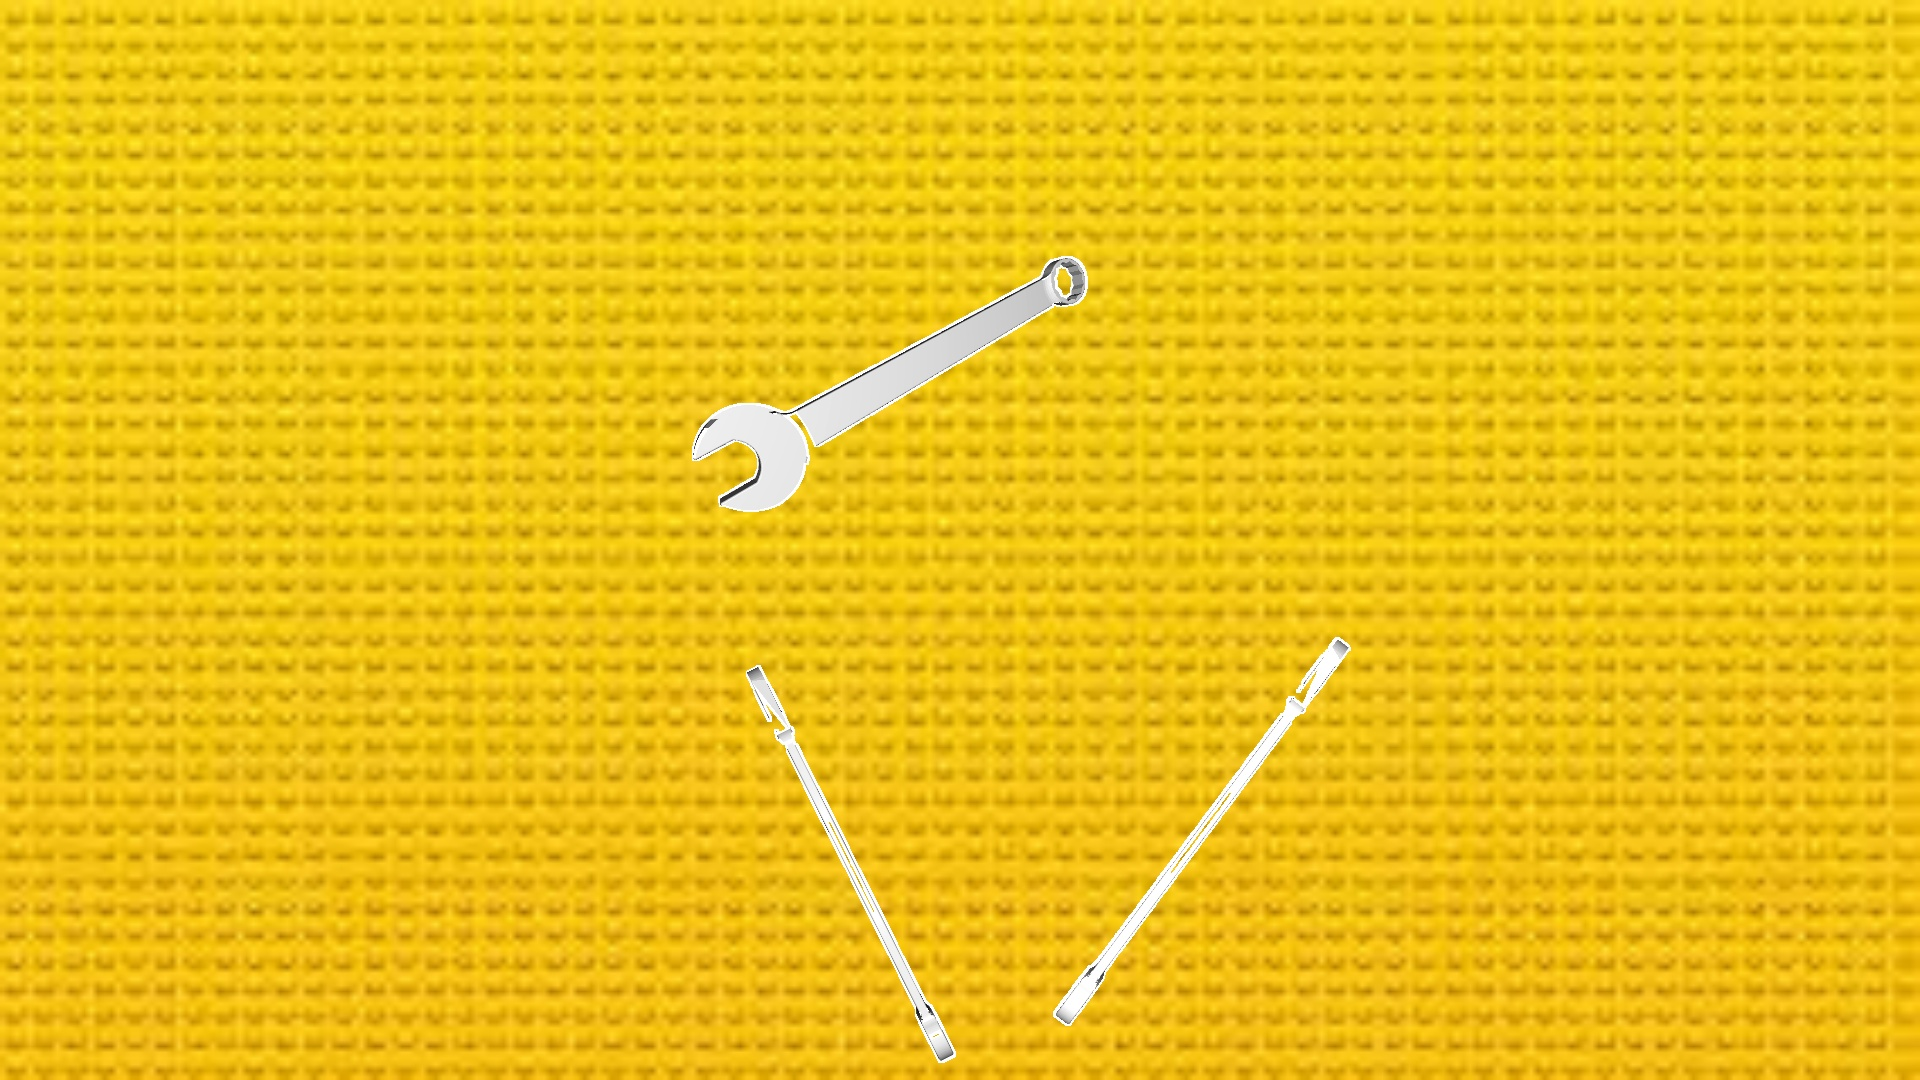Mixed Key: (1054, 637, 1350, 1025), (692, 256, 1087, 512), (746, 665, 955, 1062)
